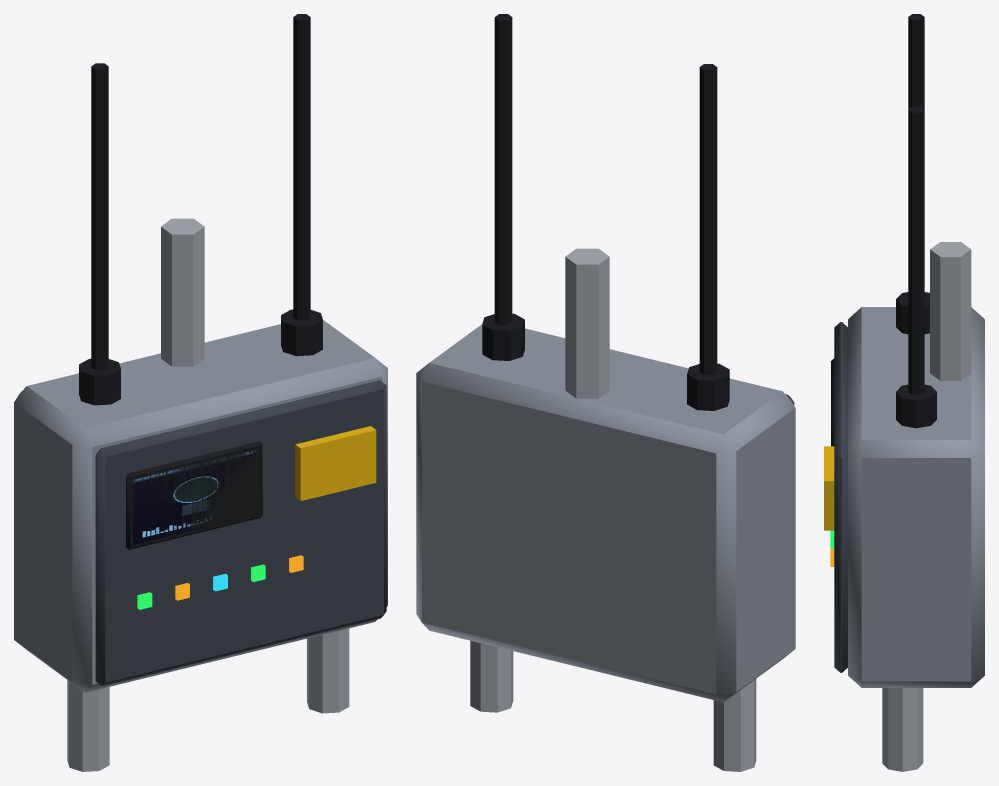
Rendered from antenna_relay_box.glb.
The picture shows the model from 3 angles, left to right: view 1: azimuth 30°, elevation 25°; view 2: azimuth 150°, elevation 25°; view 3: azimuth 270°, elevation 25°; orthographic projection. The views are drawn at different scales.
Parts seen in each view (by area): view 1: antenna_relay_box; view 2: antenna_relay_box; view 3: antenna_relay_box.
Boxes of the visible parts, <box> form: antenna_relay_box: <box>14,14,387,771</box>; antenna_relay_box: <box>416,14,795,771</box>; antenna_relay_box: <box>824,14,984,771</box>.
Size of the model in its own units: 0.5 by 1.04 by 0.235.
9 materials, 1 textured.
